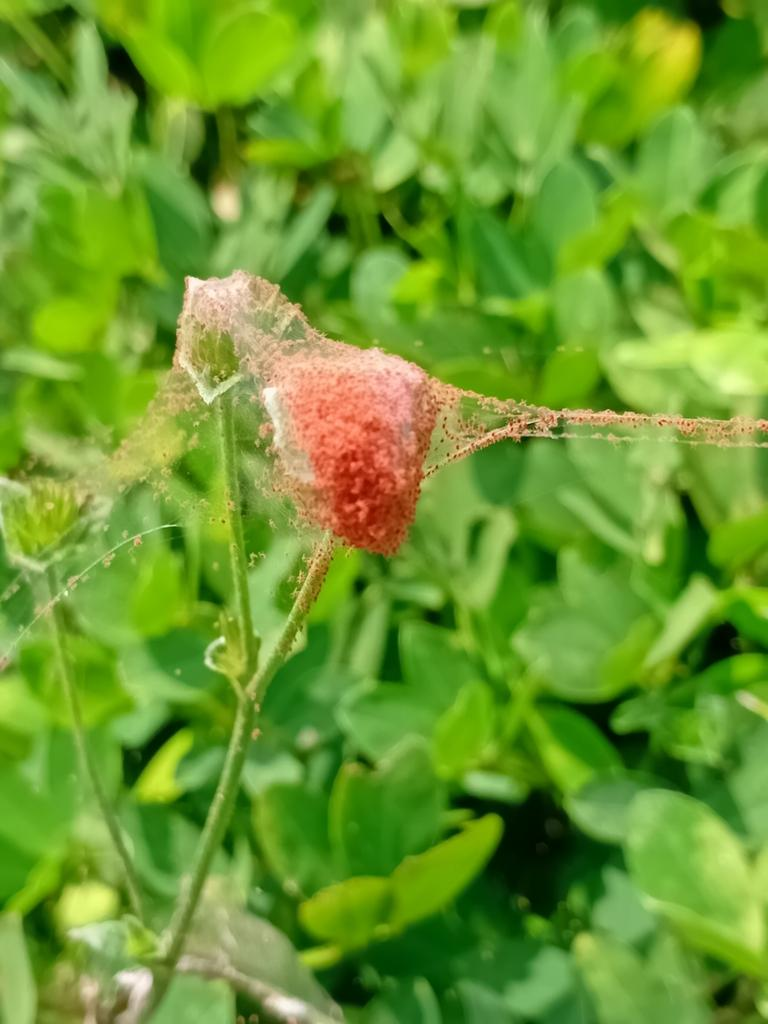tiny_pests: (225, 308, 484, 580), (546, 400, 768, 443)
